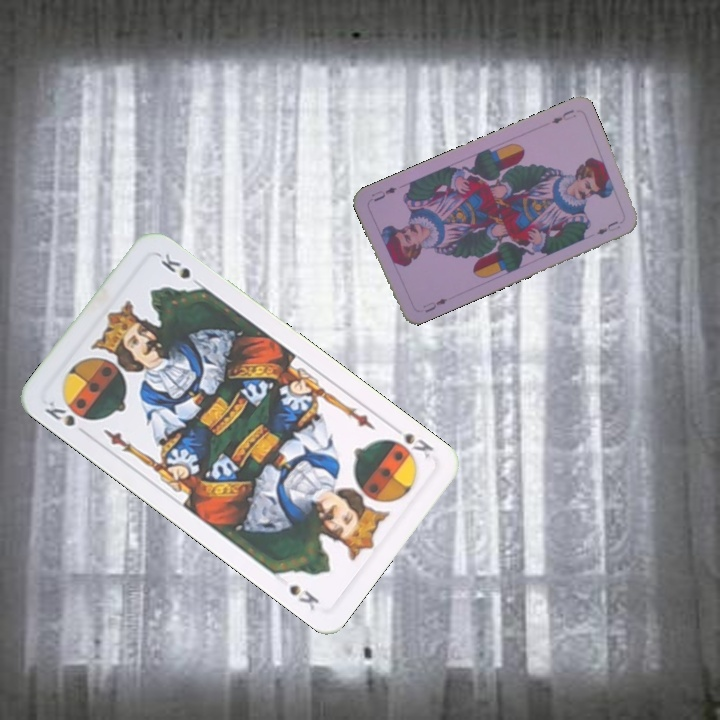EU: (419, 294, 450, 315), (547, 105, 578, 126)
SK: (40, 397, 92, 439), (383, 423, 437, 463)
